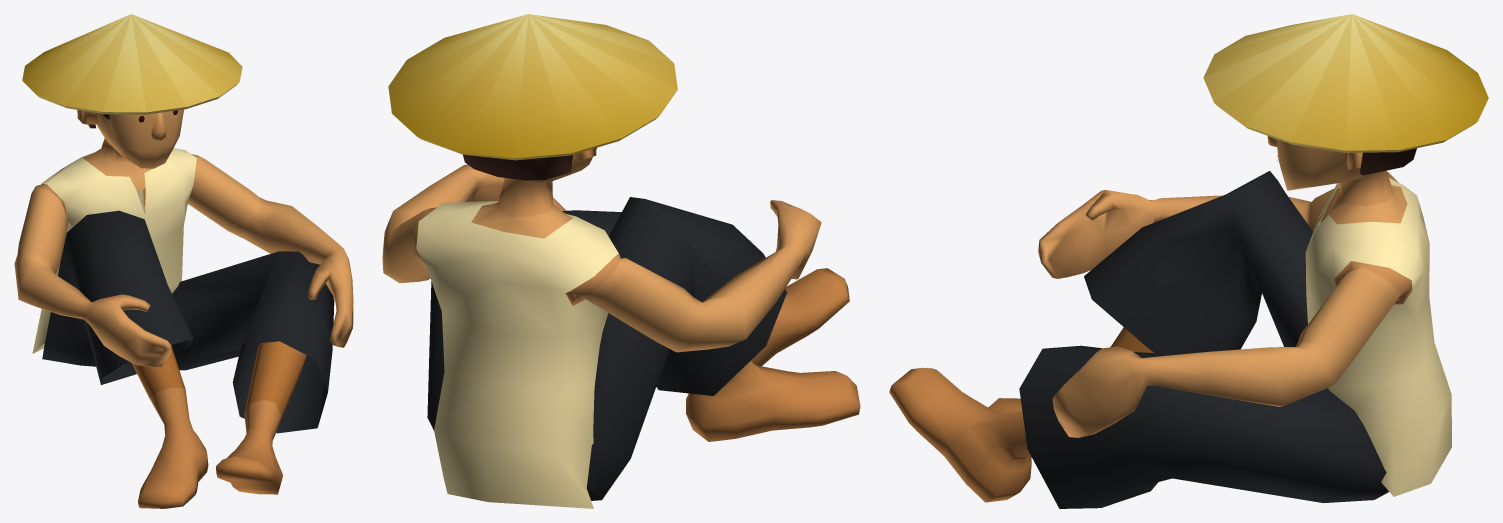
File: SM_BG_NPC_01.fbx
The picture shows the model from 3 angles, left to right: view 1: azimuth 30°, elevation 25°; view 2: azimuth 150°, elevation 25°; view 3: azimuth 270°, elevation 25°; orthographic projection. The views are drawn at different scales.
Parts seen in each view (by area): view 1: SM_BG_NPC_01; view 2: SM_BG_NPC_01; view 3: SM_BG_NPC_01.
Part boxes in pixels (x1,y1,x2,y2): SM_BG_NPC_01: (14,14,353,508); SM_BG_NPC_01: (382,14,860,508); SM_BG_NPC_01: (889,14,1488,508).
Bounding box in the file's own units: 0.6886 × 0.9047 × 1.
